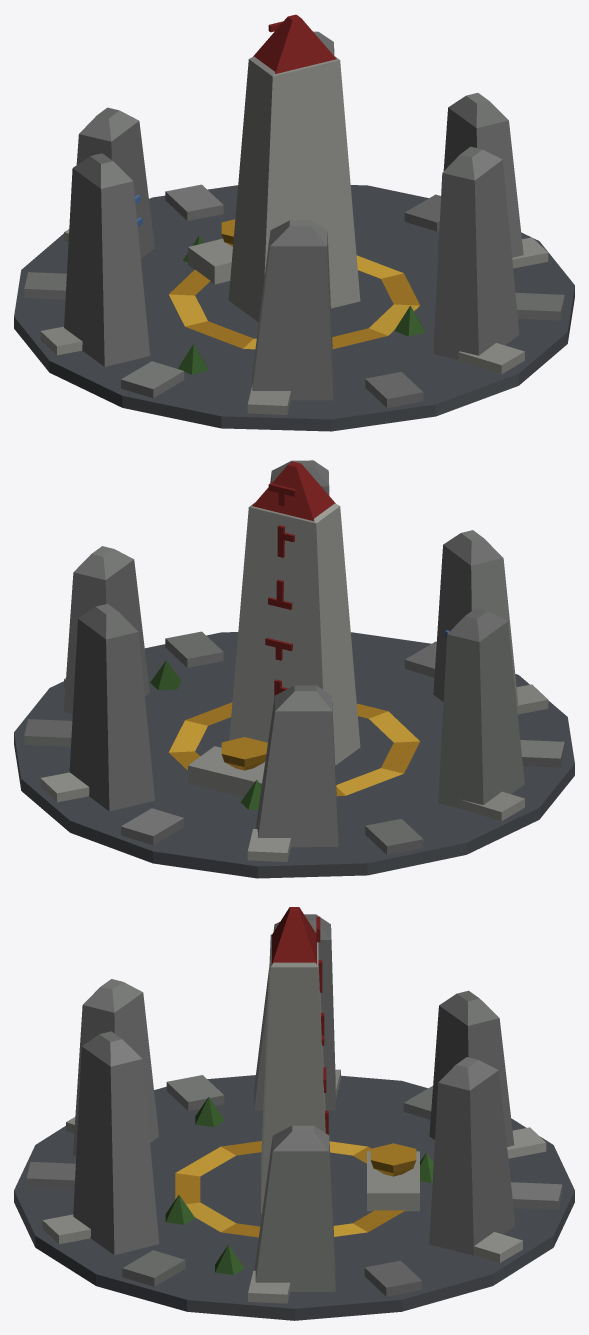
The model's file is Decor_VikingLonghouse_RuneStones.fbx.
3 renders of one model, top to bottom at view 1: azimuth 30°, elevation 25°; view 2: azimuth 150°, elevation 25°; view 3: azimuth 270°, elevation 25°, orthographic.
Visible parts, largest first — view 1: RuneStones_Body; view 2: RuneStones_Body; view 3: RuneStones_Body.
Boxes of the visible parts, x1,y1,x2,y2 form: RuneStones_Body: [14, 14, 574, 431]; RuneStones_Body: [14, 460, 574, 878]; RuneStones_Body: [14, 907, 574, 1320].
Bounding box in the file's own units: 17 × 9.8 × 17.
